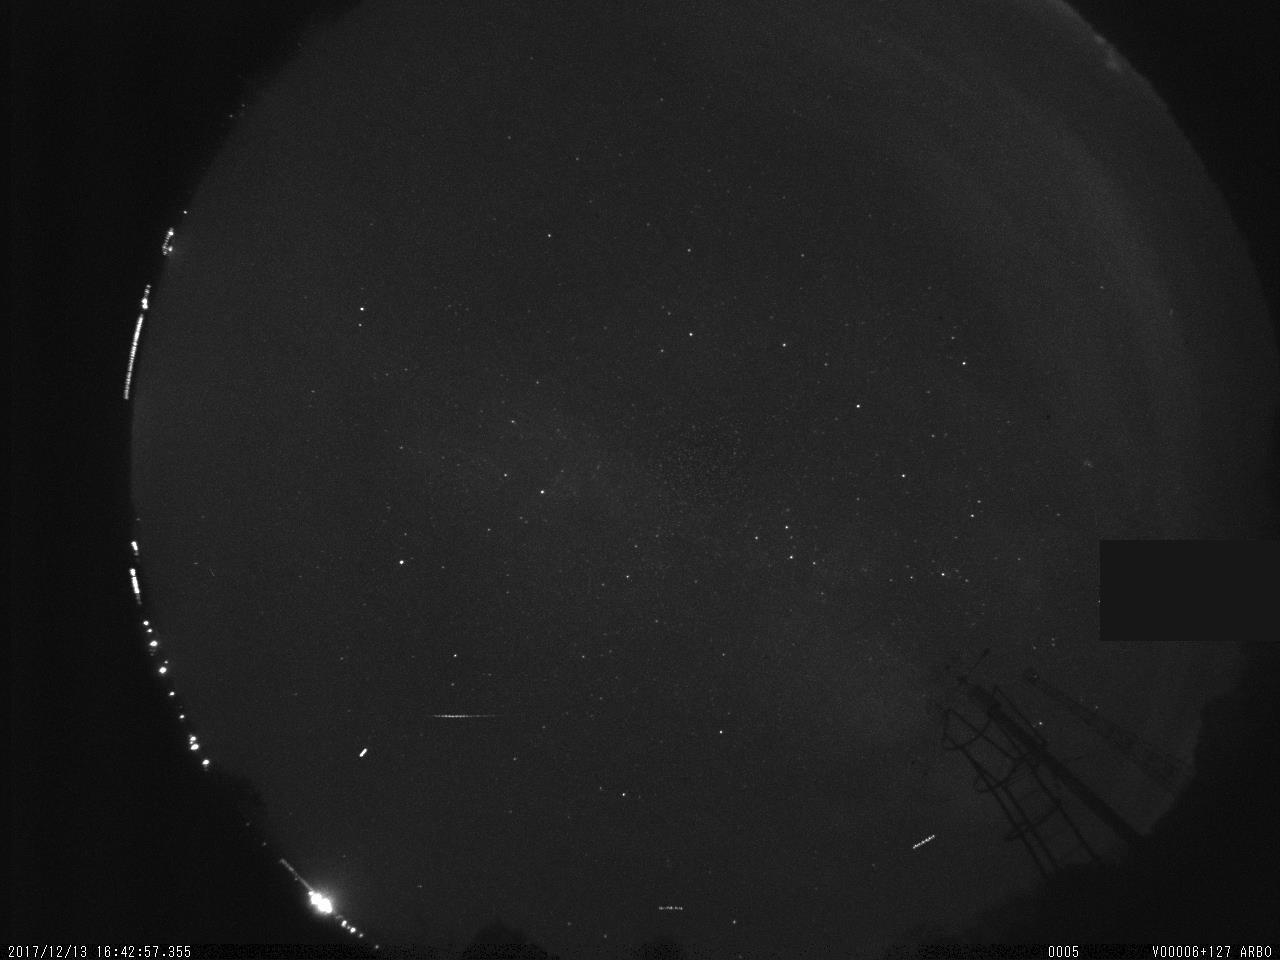Meteor: (428, 708, 508, 725)
